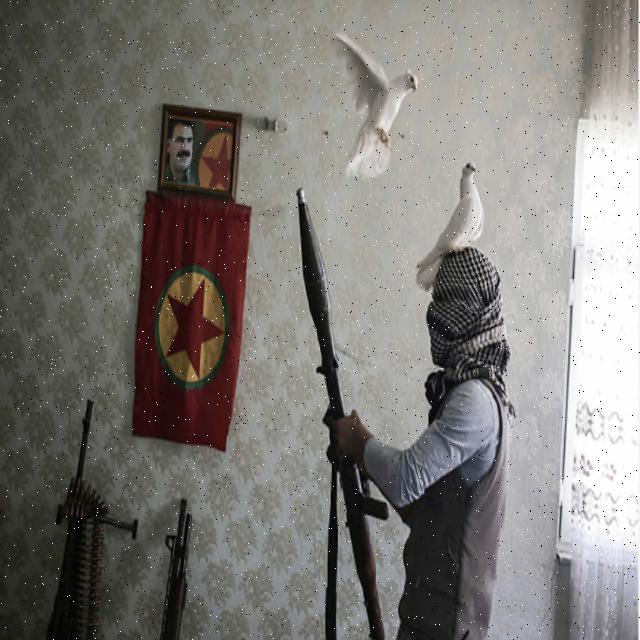bazooka: (291, 172, 408, 631)
